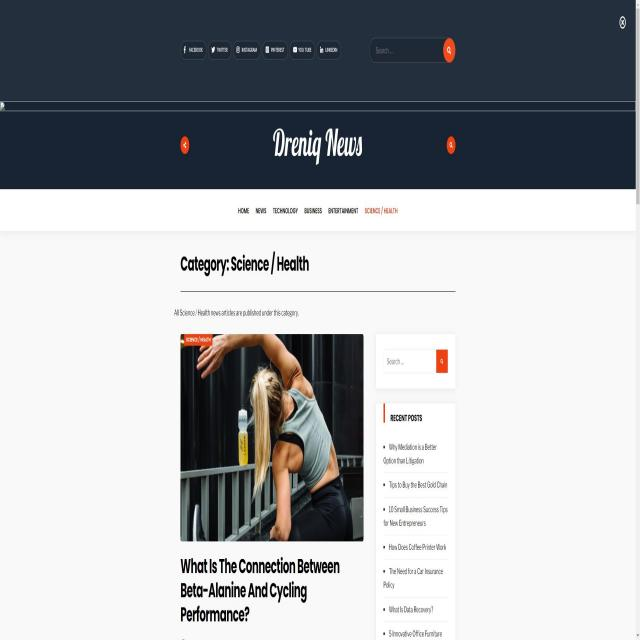button: (233, 40, 261, 60), (180, 40, 207, 60), (263, 40, 288, 60), (290, 40, 315, 60), (208, 40, 232, 60), (317, 40, 341, 60), (444, 37, 456, 64), (437, 349, 448, 374), (447, 135, 456, 155)
input: (369, 36, 443, 65), (384, 348, 436, 374)
